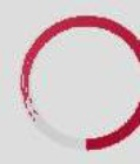ProgressBar: (1, 1, 139, 163)
